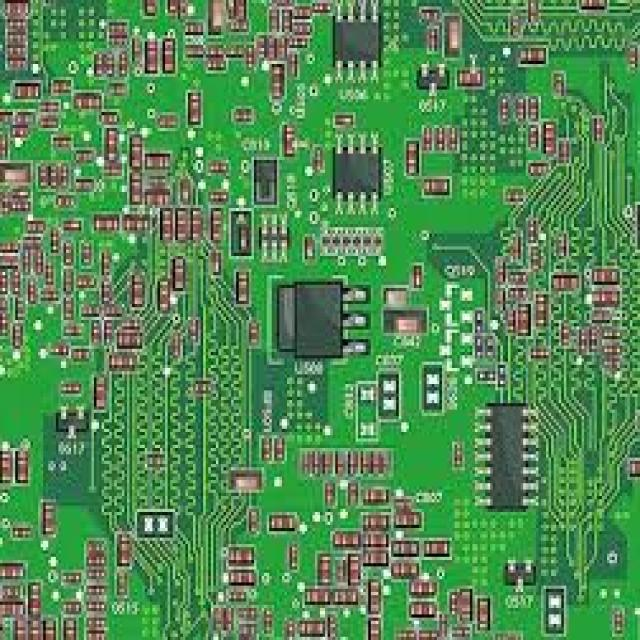pcb: (0, 0, 637, 637), (267, 275, 368, 362)
